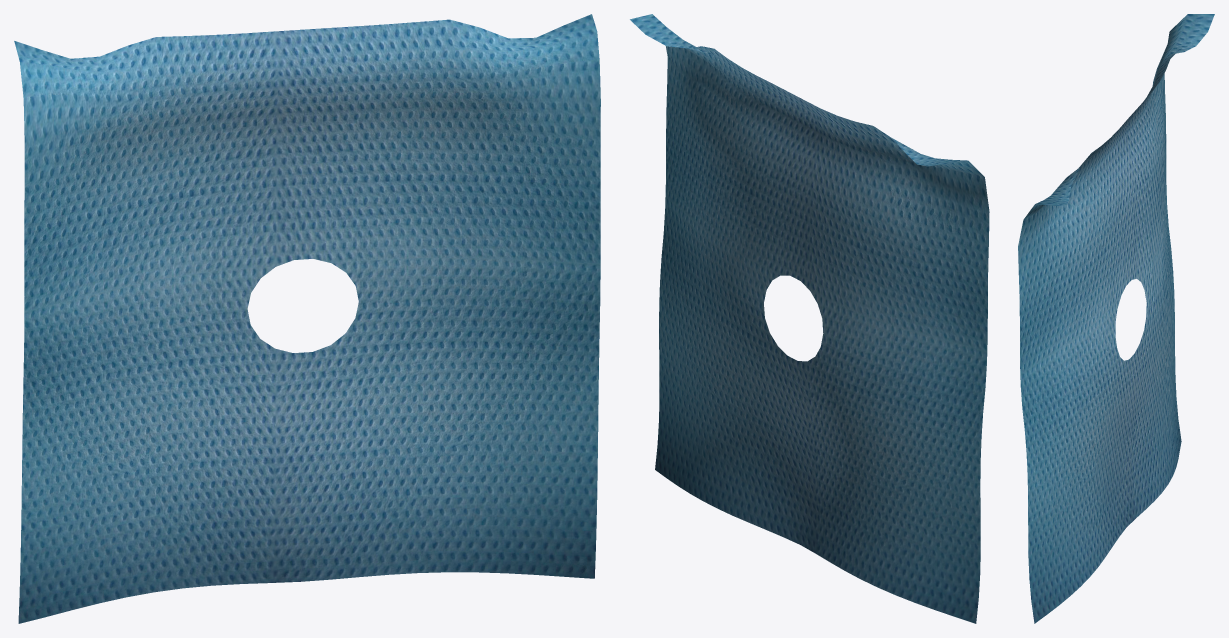
3 renders of one model, left to right at view 1: azimuth 30°, elevation 25°; view 2: azimuth 150°, elevation 25°; view 3: azimuth 270°, elevation 25°, orthographic. The views are drawn at different scales.
Parts seen in each view (by area): view 1: Sterile_hole_towel001; view 2: Sterile_hole_towel001; view 3: Sterile_hole_towel001.
Part boxes in pixels (bbox=[...]): Sterile_hole_towel001: bbox=[14, 14, 600, 623]; Sterile_hole_towel001: bbox=[630, 14, 989, 623]; Sterile_hole_towel001: bbox=[1018, 14, 1214, 623].
Size of the model in its own units: 218 by 236 by 96.81.
Materials: 1 (1 with a texture image).
